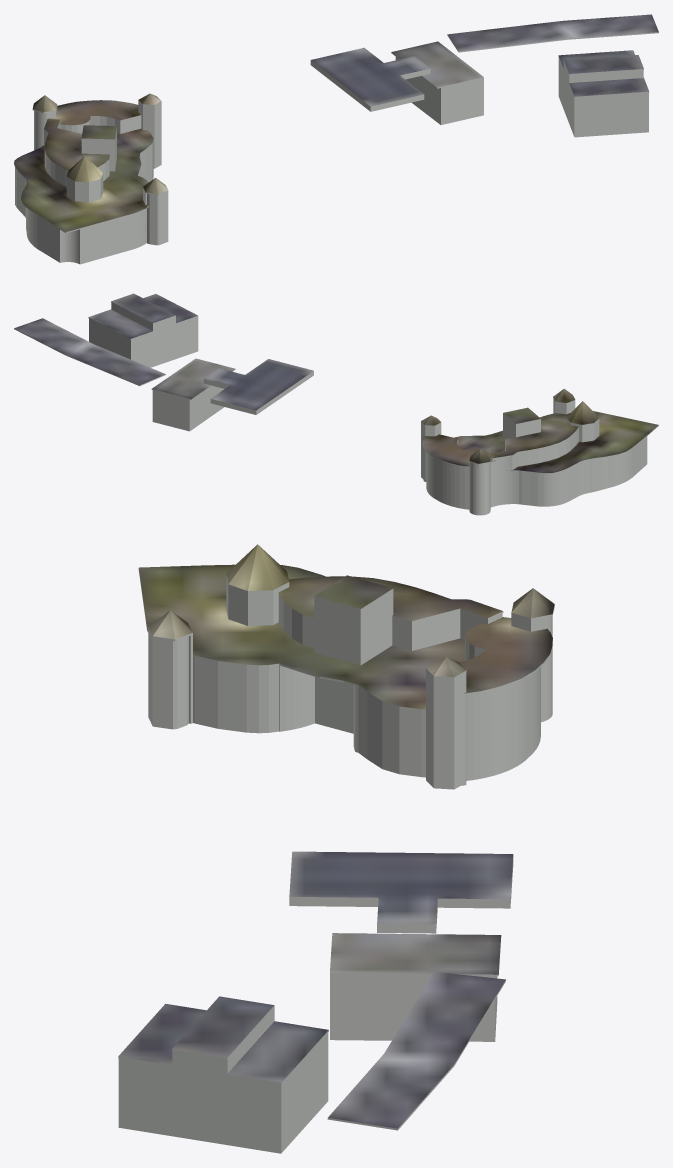
Rendered from LSZR_-3_-1.glb.
The picture shows the model from 3 angles, top to bottom: view 1: azimuth 30°, elevation 25°; view 2: azimuth 150°, elevation 25°; view 3: azimuth 270°, elevation 25°; orthographic projection. The views are drawn at different scales.
Parts seen in each view (by area): view 1: building_66f63760a691997c, building_ee7d2d5620393c84; view 2: building_66f63760a691997c, building_ee7d2d5620393c84; view 3: building_66f63760a691997c, building_ee7d2d5620393c84.
Part boxes in pixels (bbox=[...]): building_66f63760a691997c: bbox=[14, 14, 658, 232]; building_ee7d2d5620393c84: bbox=[15, 57, 648, 264]; building_66f63760a691997c: bbox=[14, 293, 658, 473]; building_ee7d2d5620393c84: bbox=[89, 302, 647, 515]; building_66f63760a691997c: bbox=[118, 544, 554, 1130]; building_ee7d2d5620393c84: bbox=[118, 577, 552, 1153].
Size of the model in its own units: 132 by 14.77 by 42.8.
Materials: 2 (1 with a texture image).
